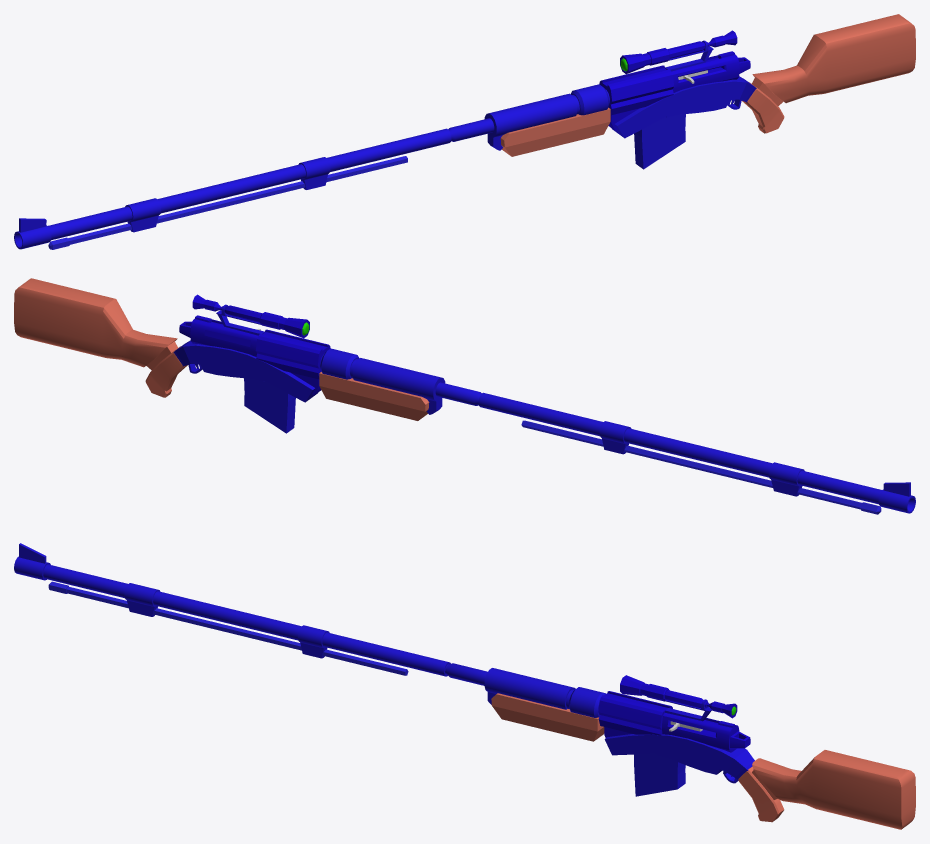
The model's file is rifle1.fbx.
3 renders of one model, top to bottom at view 1: azimuth 30°, elevation 25°; view 2: azimuth 150°, elevation 25°; view 3: azimuth 330°, elevation 25°, orthographic.
Visible parts, largest first — view 1: Cube.001; view 2: Cube.001; view 3: Cube.001.
Boxes of the visible parts, bbox=[...] form: Cube.001: bbox=[14, 14, 915, 249]; Cube.001: bbox=[14, 278, 915, 514]; Cube.001: bbox=[14, 543, 915, 829].
Size of the model in its own units: 2196 by 268 by 81.26.
